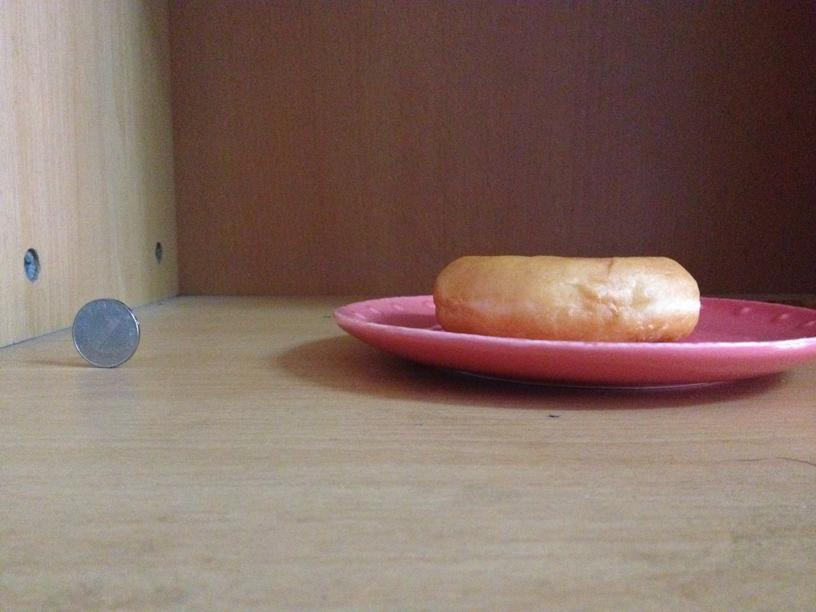coin: (70, 298, 140, 367)
doughnut: (433, 252, 701, 343)
